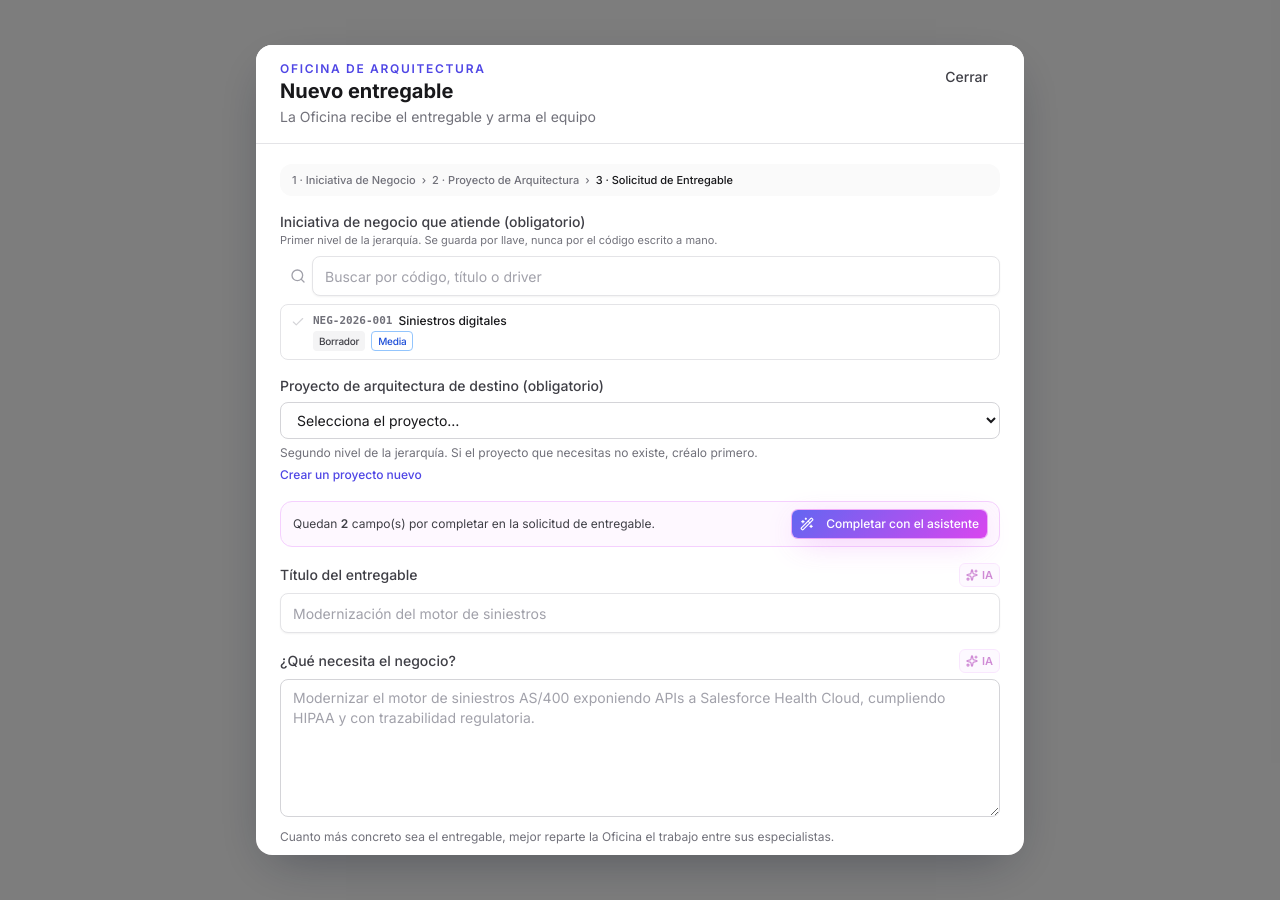
Test: EngagementIntakeWizard — la jerarquía es obligatoria › refuses a brief too thin to plan
Step 1. Select "Núcleo de pólizas" in the dropdown labelled "Proyecto de arquitectura de destino (obligatorio)" → (640, 420), box [280, 402, 1000, 439]
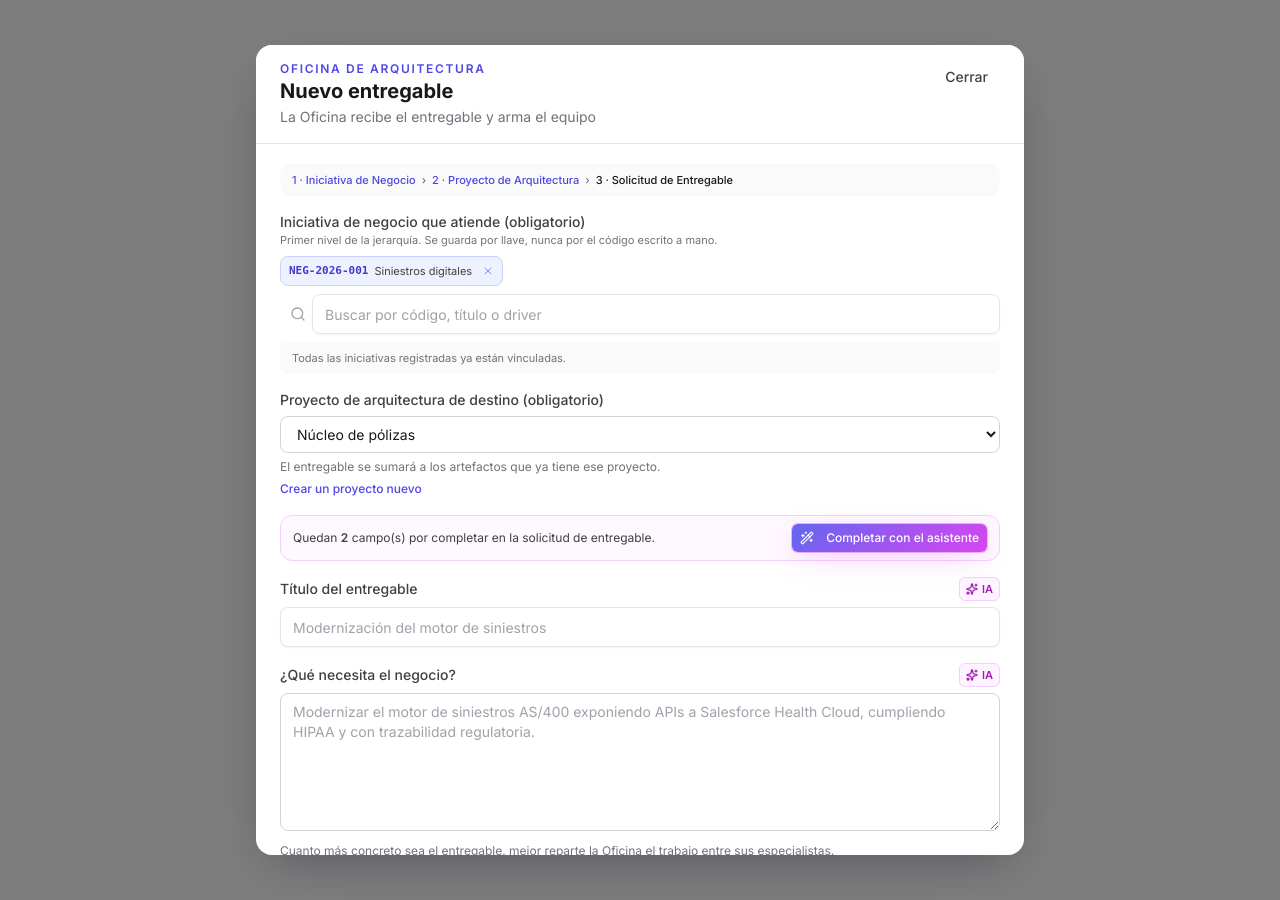
Step 2. Type "Algo" into the field labelled "Título del entregable" → (640, 627), box [280, 607, 1000, 647]
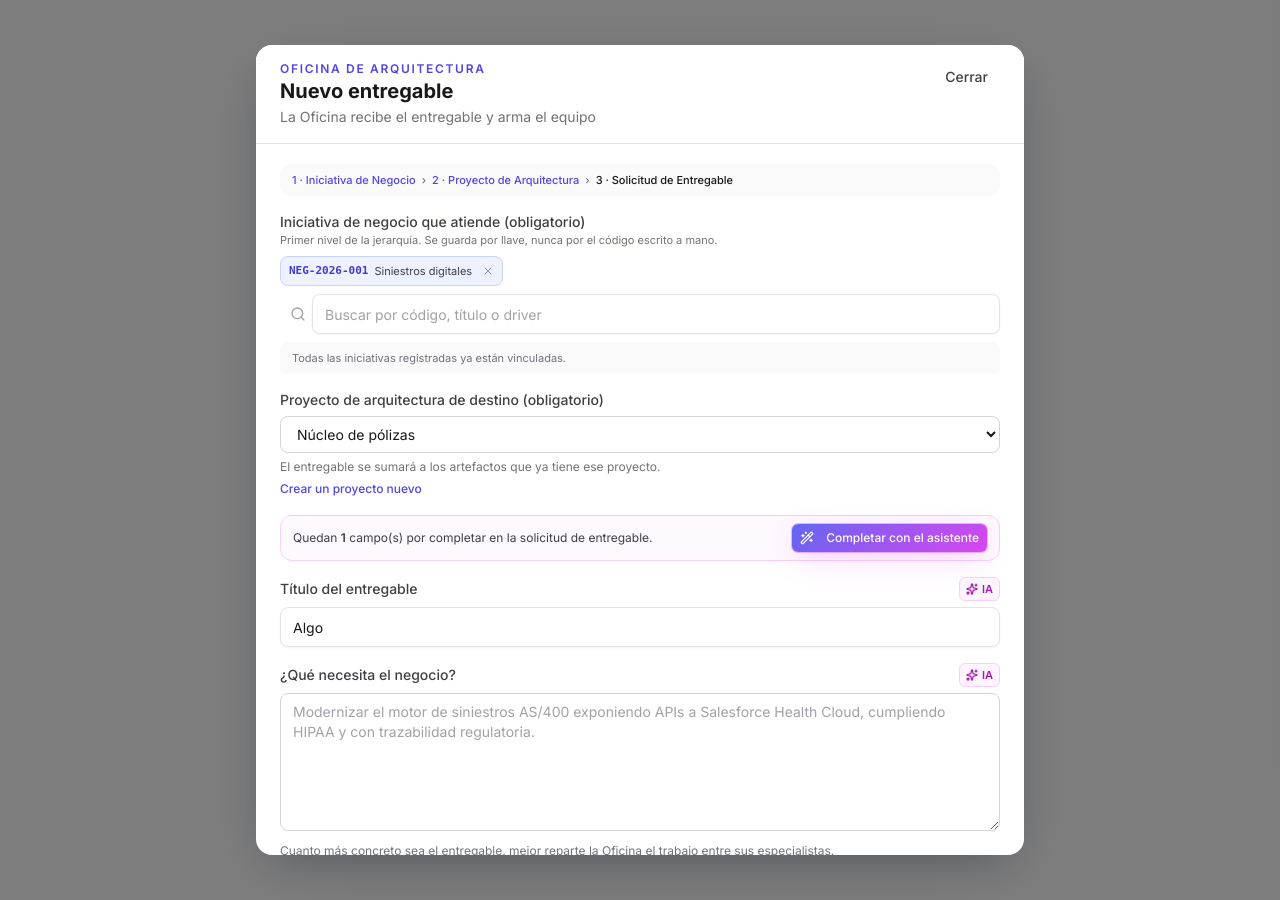
Step 3. Replace the text in the text box labelled "¿Qué necesita el negocio?" with "corto" → (640, 762), box [280, 693, 1000, 831]
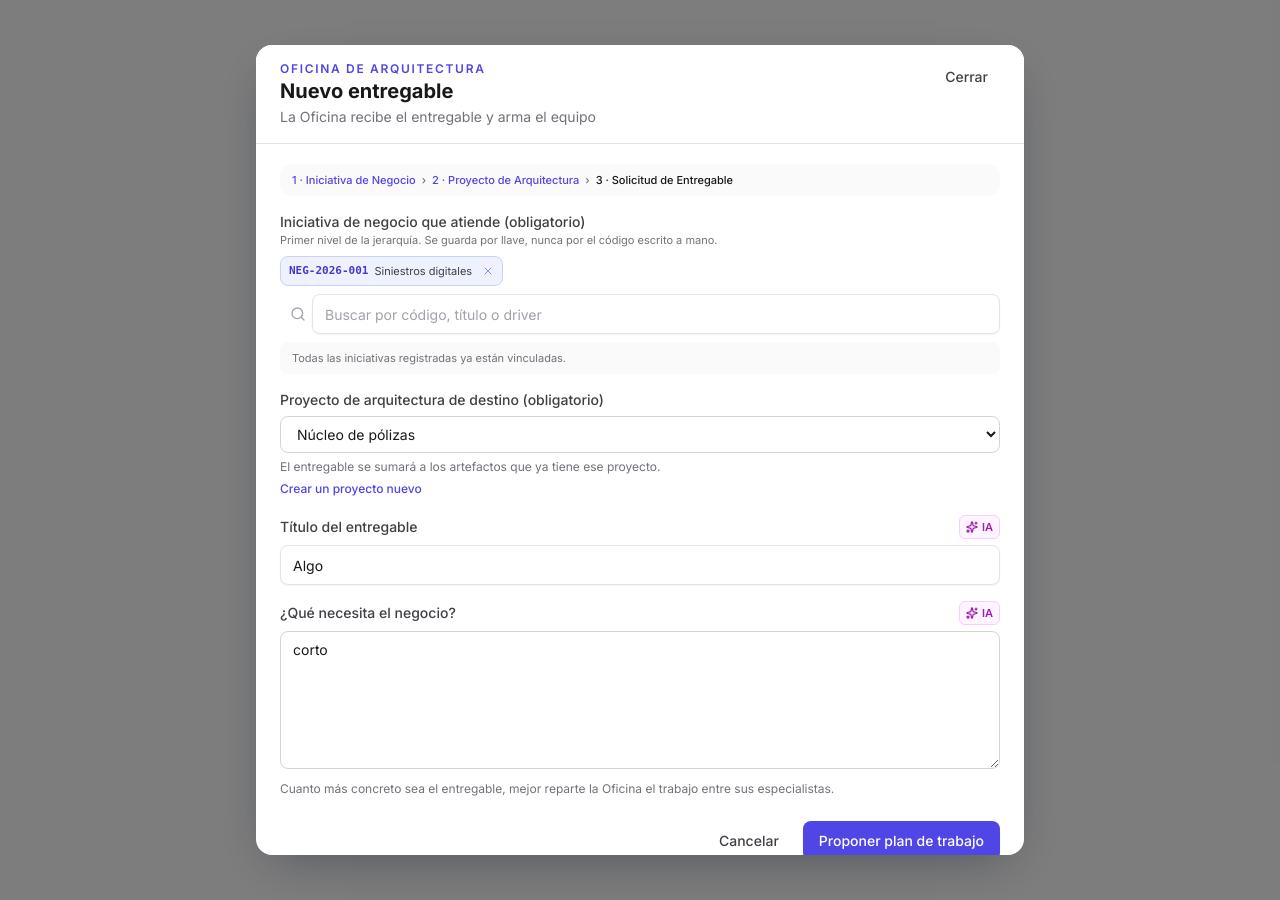
Step 4. Click the button "Proponer plan de trabajo" → (901, 841), box [803, 821, 1000, 861]
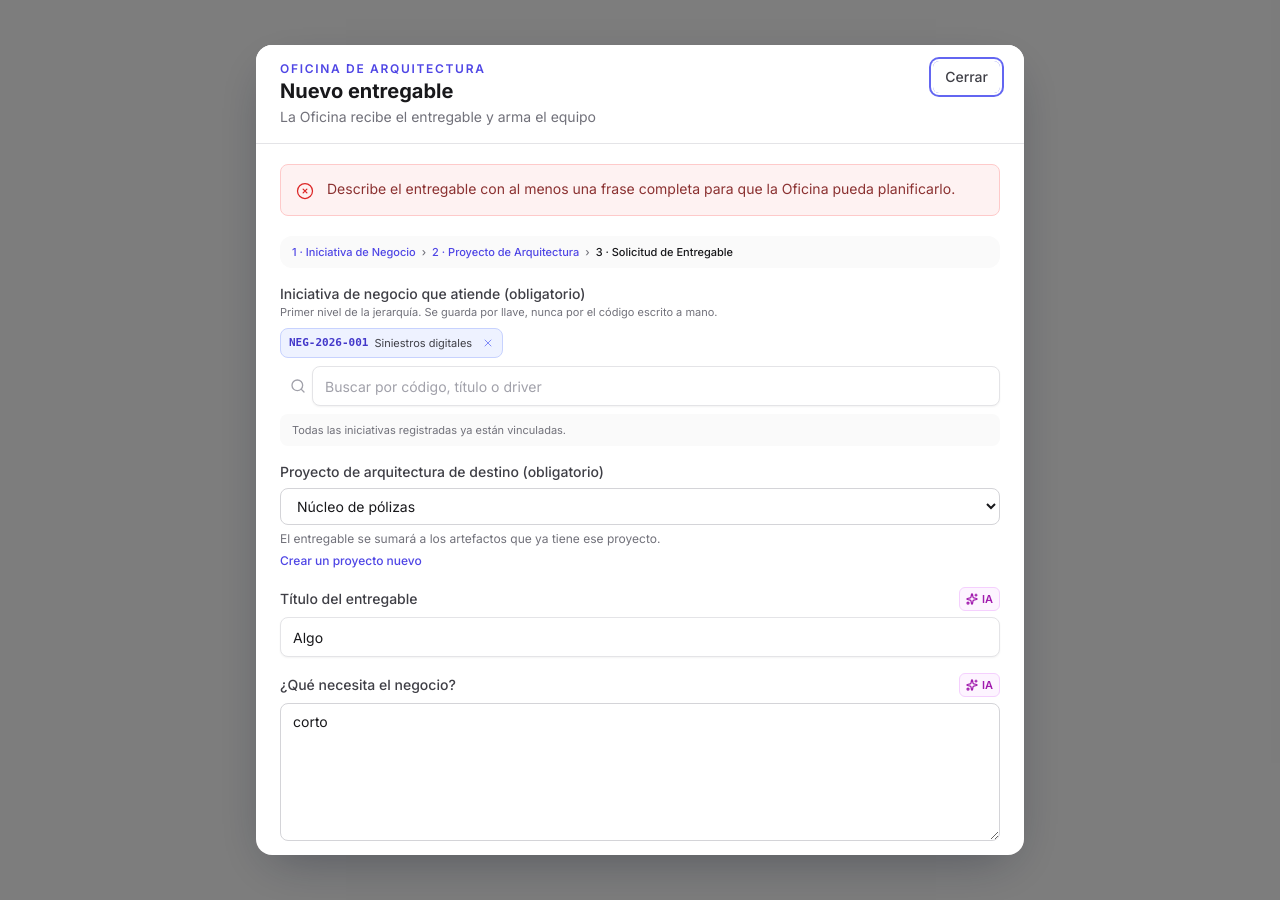
Check: the text "al menos una frase completa" is shown, box [327, 180, 955, 197]
